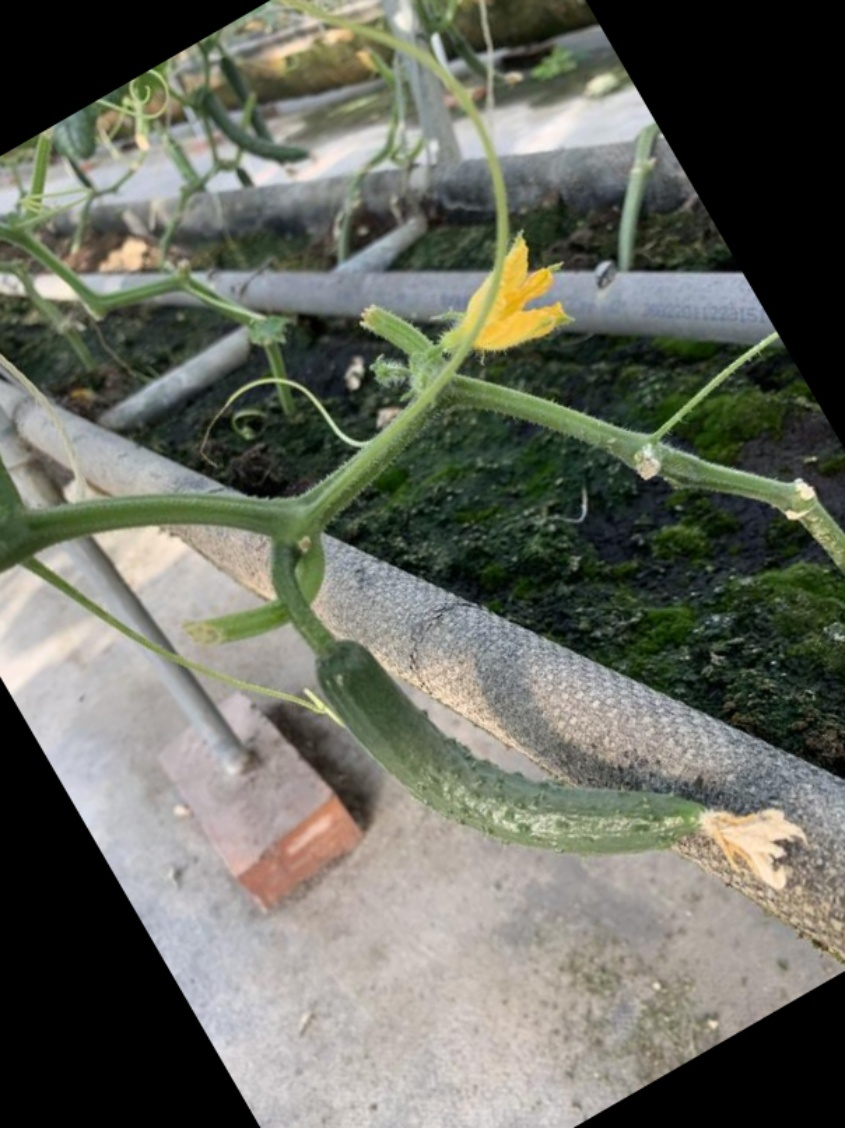growth: (299, 631, 804, 882)
